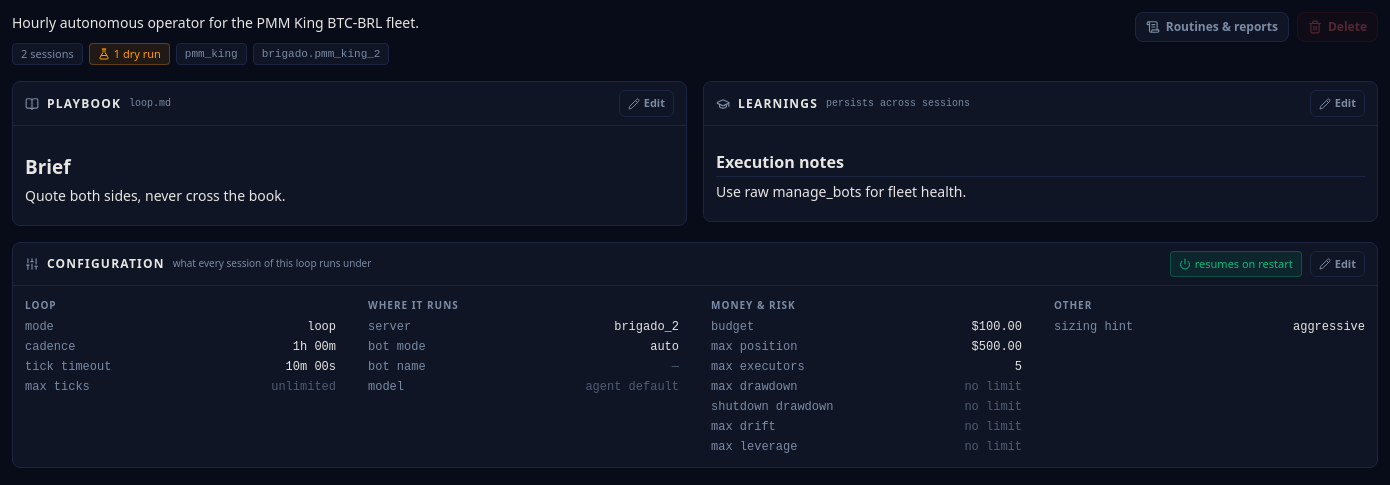
Test: PlaybookView › says why a refused restart write snapped back
Click the switch labelled "resumes on restart".
click(1236, 264)  # box [1170,251,1302,277]
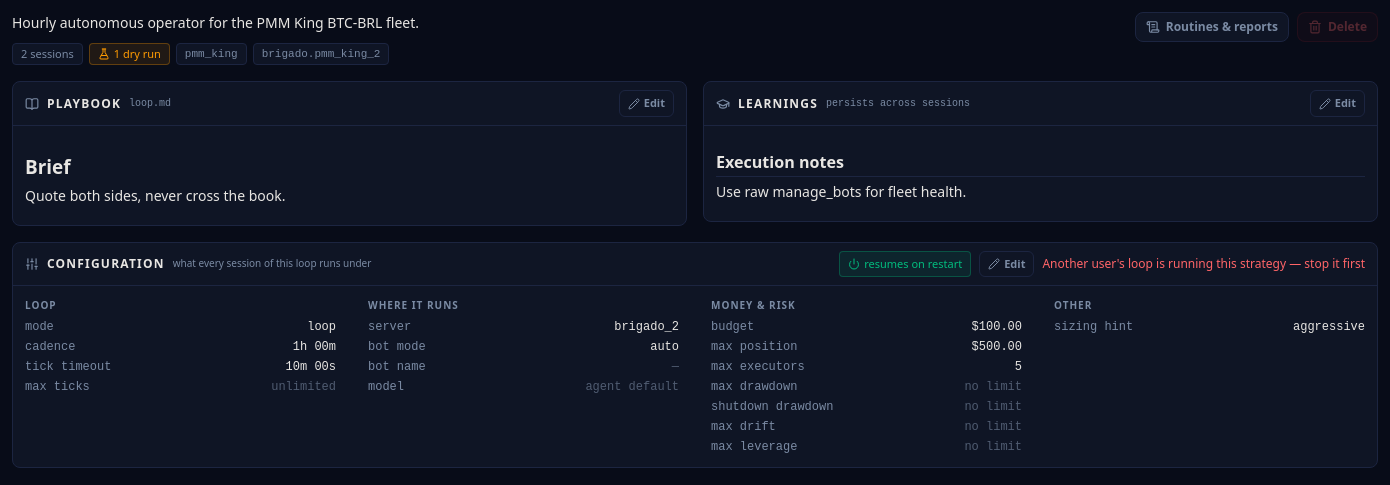
Result: the message "Another user's loop is running this strategy — stop it first" is shown at [1042,256,1365,272]
